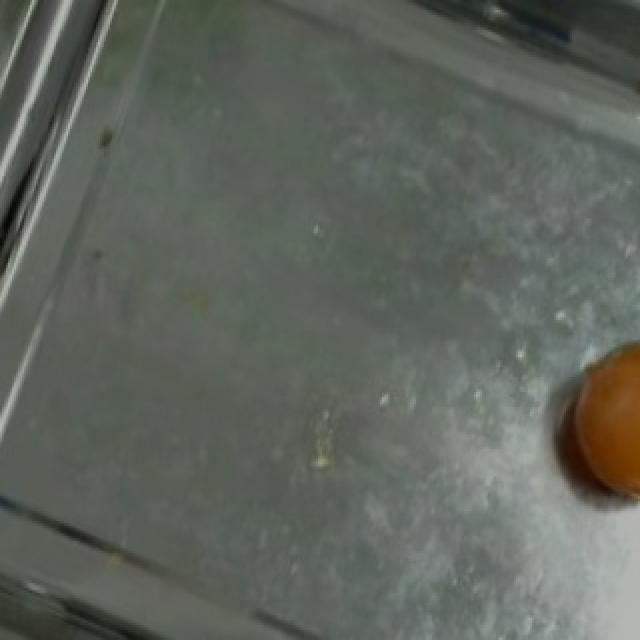Fruit: (542, 310, 640, 521)
